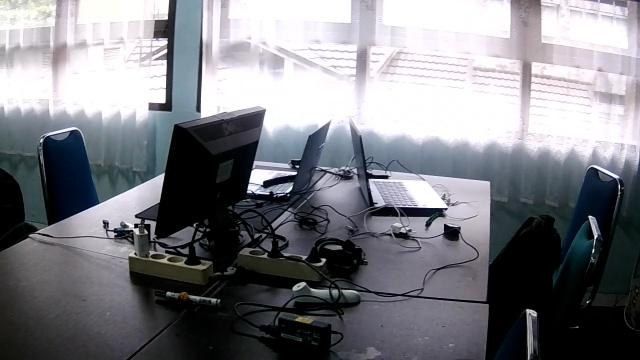AIO PC-Monitor-TV: (151, 105, 267, 238)
Meja: (228, 164, 492, 298), (122, 276, 491, 359)
